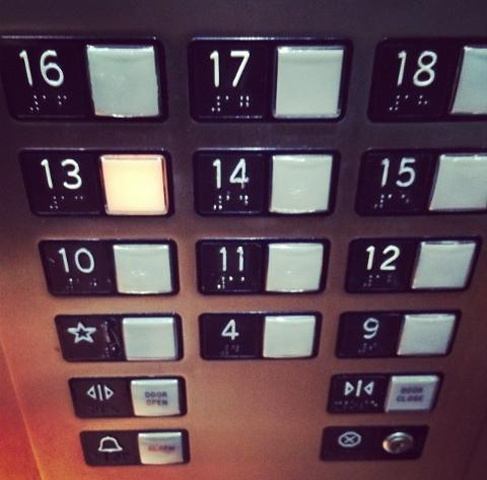10: (35, 235, 183, 301)
11: (191, 234, 333, 298)
12: (340, 234, 485, 296)
13: (15, 143, 177, 220)
14: (188, 144, 342, 220)
15: (349, 144, 487, 219)
16: (1, 31, 170, 124)
17: (183, 31, 354, 126)
18: (363, 31, 487, 126)
4: (194, 309, 325, 362)
9: (331, 307, 465, 362)
alarm: (76, 426, 192, 470)
close: (322, 371, 444, 417)
open: (66, 373, 189, 421)
s: (50, 310, 187, 366)
stop: (317, 423, 431, 464)
